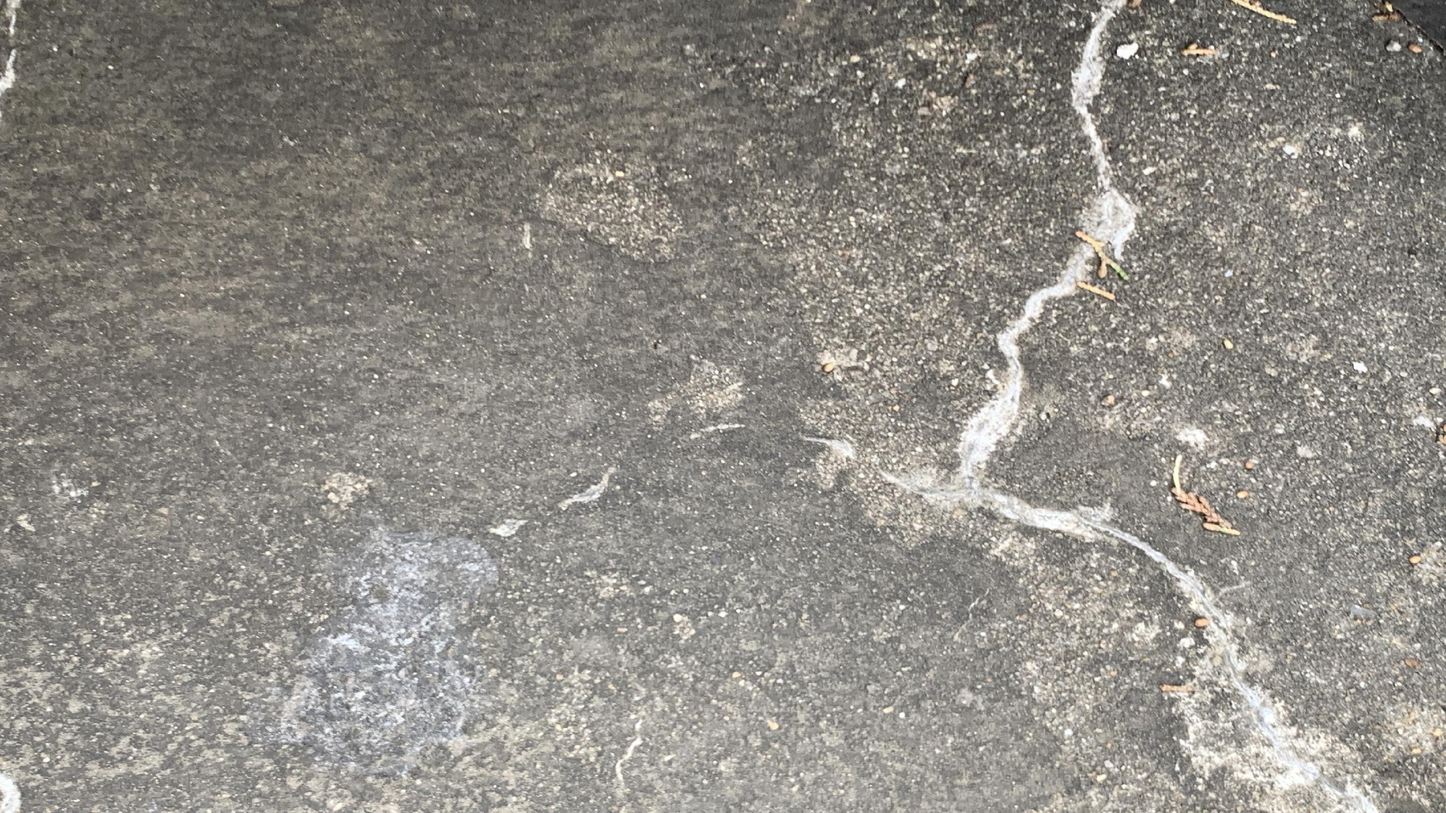crack: (879, 6, 1334, 802)
